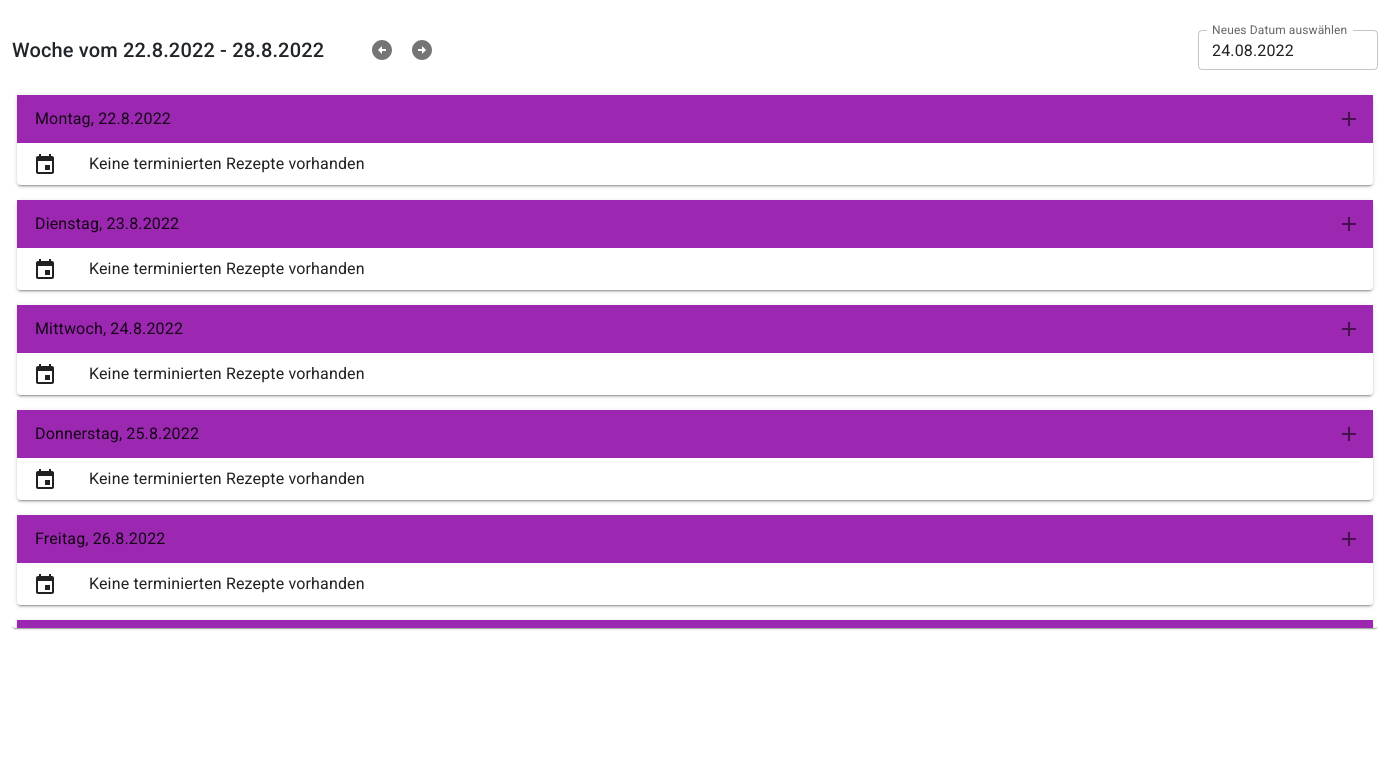
Test: renders correct header with click on previous week
Click the button with class "weeklyScheduleView__buttonPrevious".
click(382, 50)  # box top-left (362, 30), bottom-right (402, 70)
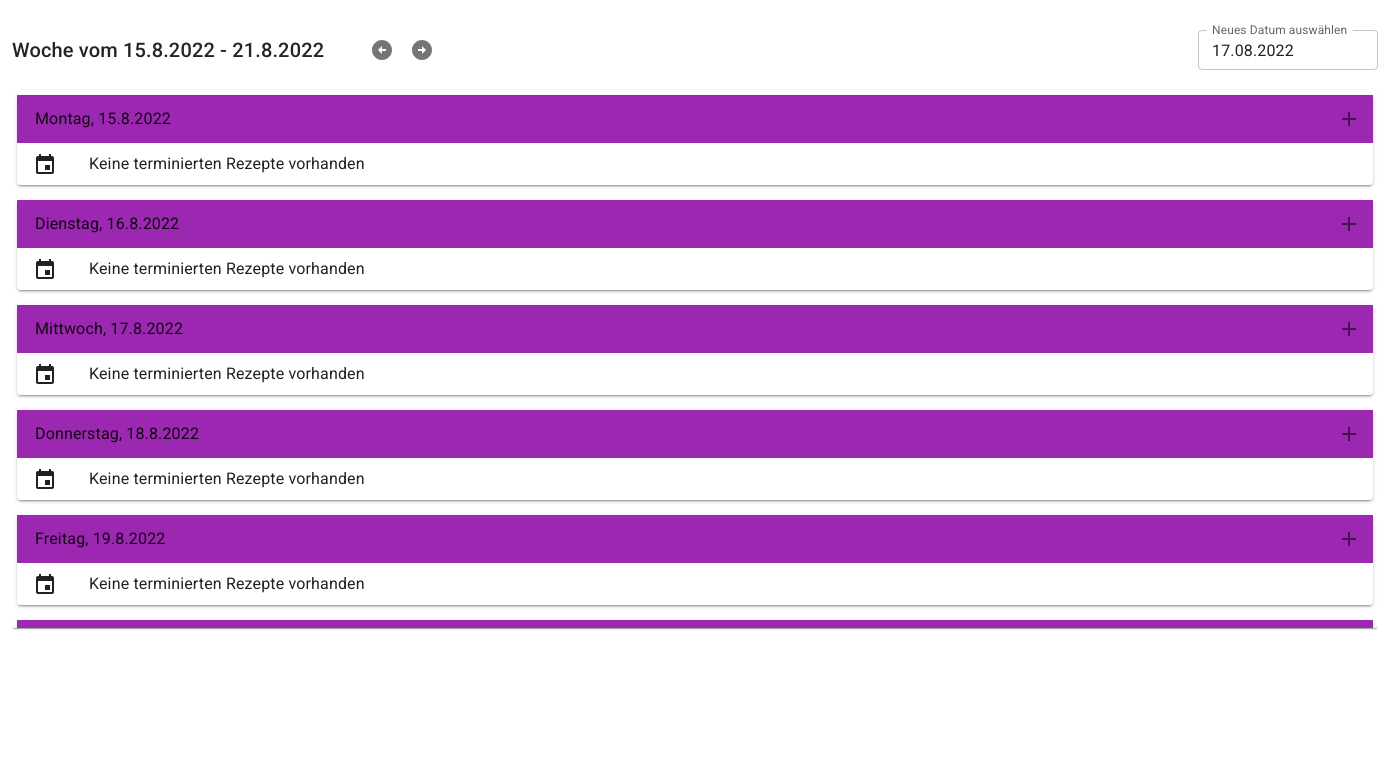
Now the text with class "weeklyScheduleView__header" reads "Woche vom 15.8.2022 - 21.8.2022", box top-left (12, 34), bottom-right (347, 66)
